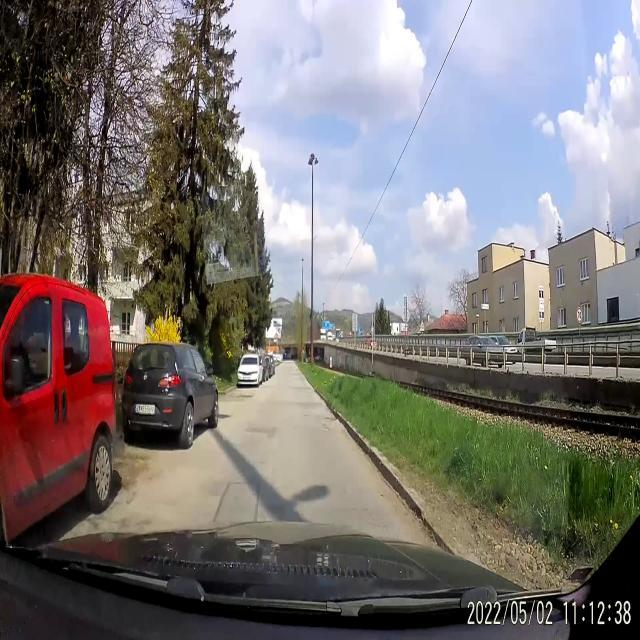Pothole: (318, 411, 336, 434)
